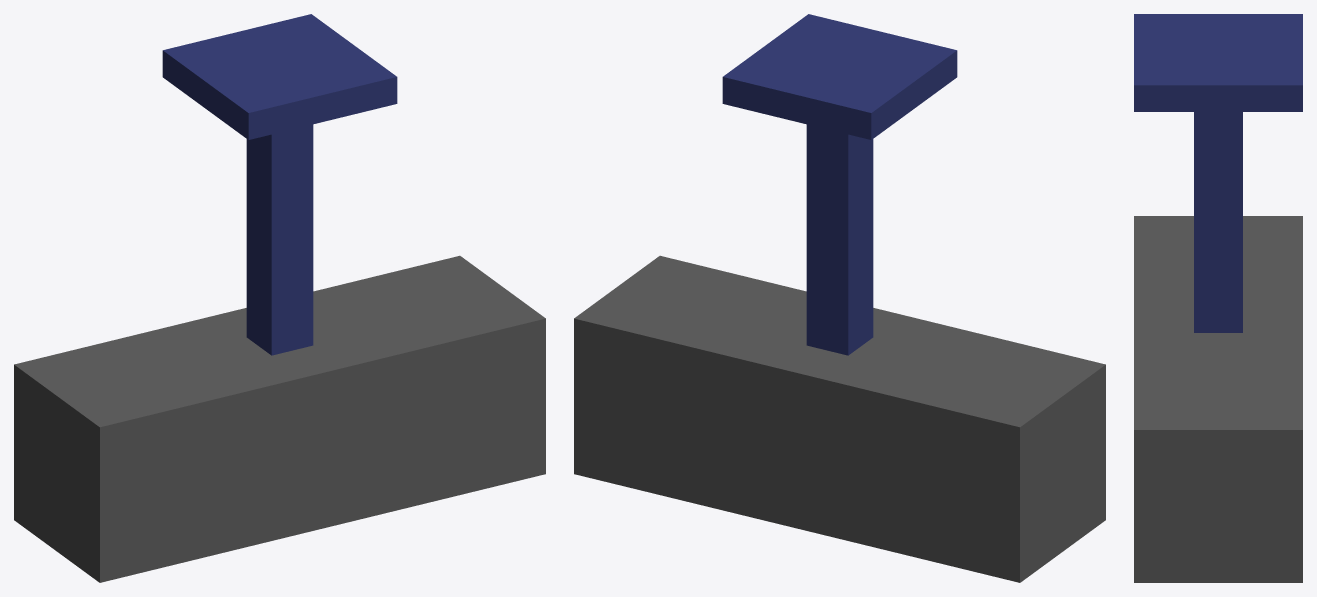
File: SimpleGrabber.fbx
The picture shows the model from 3 angles, left to right: view 1: azimuth 30°, elevation 25°; view 2: azimuth 150°, elevation 25°; view 3: azimuth 270°, elevation 25°; orthographic projection.
Parts seen in each view (by area): view 1: Base, Arm; view 2: Base, Arm; view 3: Base, Arm.
Boxes of the visible parts, x1,y1,x2,y2 form: Base: (14,255,545,582); Arm: (162,14,397,355); Base: (574,255,1105,582); Arm: (722,14,957,355); Base: (1134,216,1302,582); Arm: (1134,14,1302,332).
Size of the model in its own units: 600 by 557 by 200.
